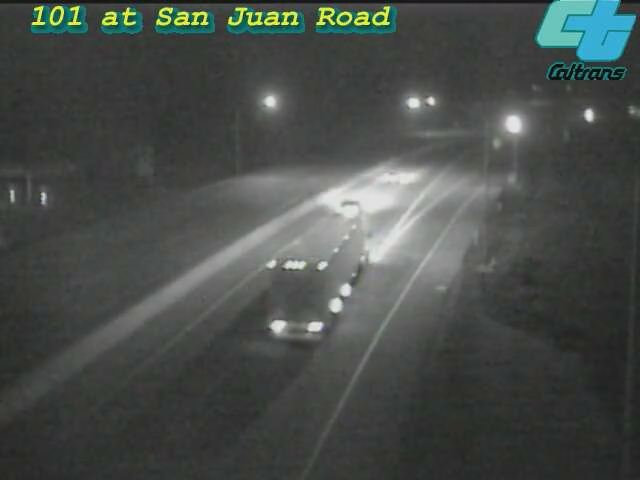vehicle: (356, 135, 436, 215), (313, 166, 393, 246), (279, 229, 359, 309), (488, 99, 538, 149), (562, 89, 612, 139)
